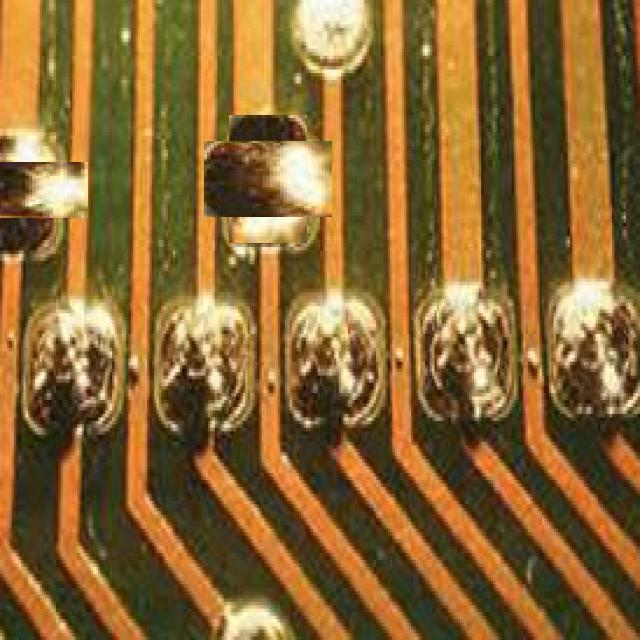redundant: (205, 140, 332, 217), (0, 162, 88, 218)
